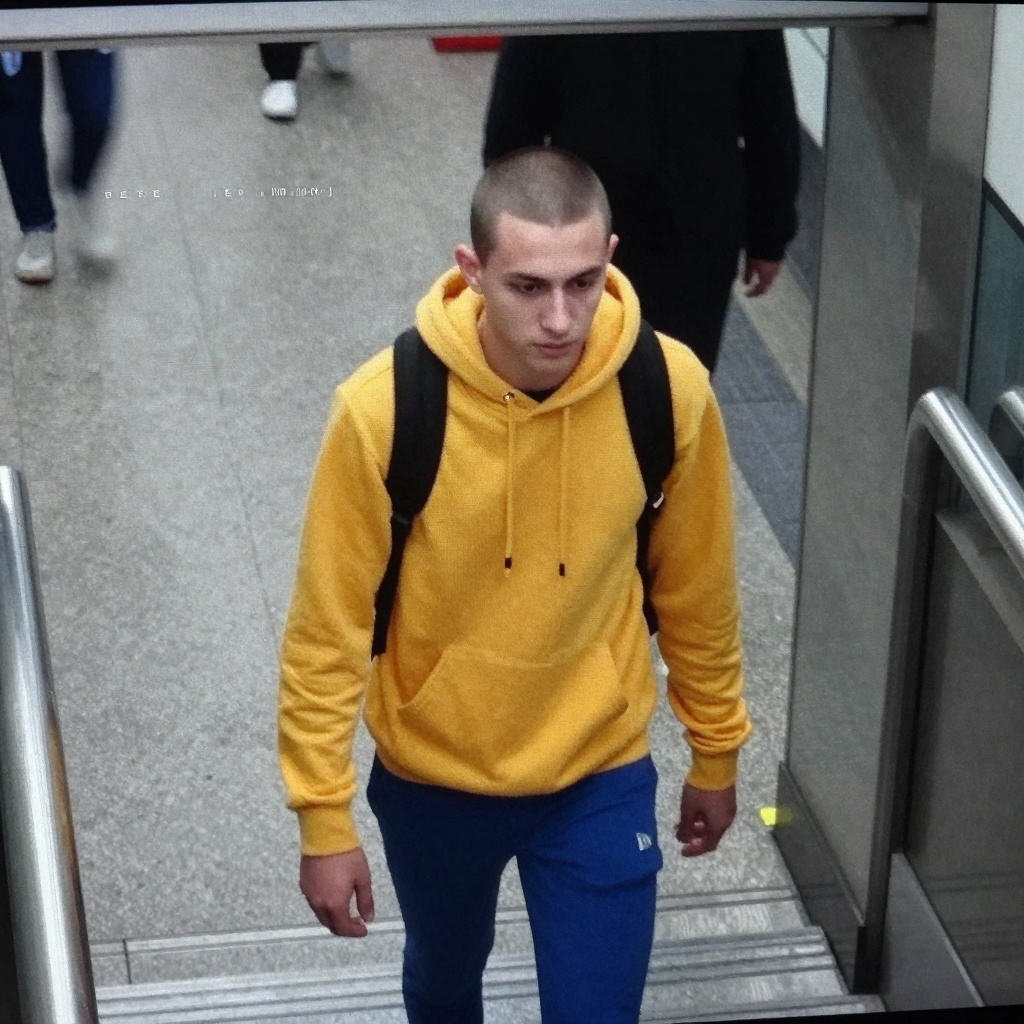Normal activity: (273, 141, 752, 1024), (480, 1, 804, 381), (0, 2, 119, 286), (255, 1, 352, 122)
